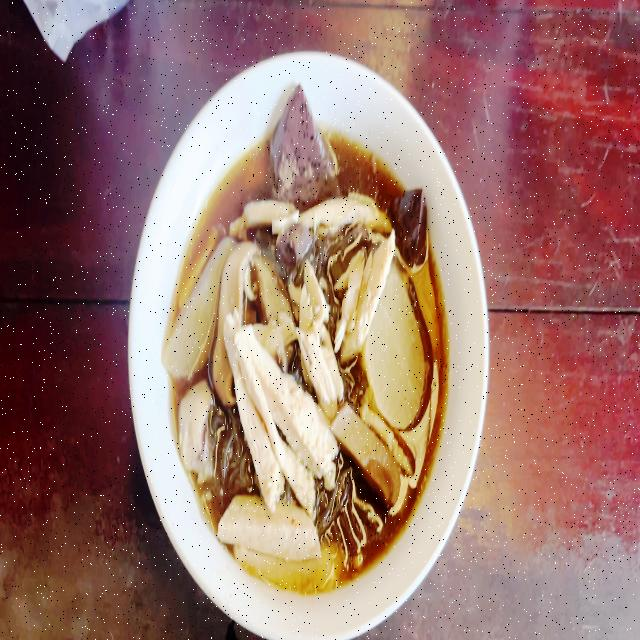boiled_chicken_blood_jelly: (275, 92, 330, 200), (388, 190, 429, 262), (274, 227, 310, 268)
chicken_shredded: (226, 317, 332, 499), (332, 231, 393, 357), (216, 492, 314, 556), (301, 266, 338, 401), (302, 195, 391, 233), (176, 384, 210, 461), (240, 195, 288, 228)
daikon_radish: (162, 240, 222, 376), (372, 286, 427, 428)
noodle: (170, 128, 449, 594)
